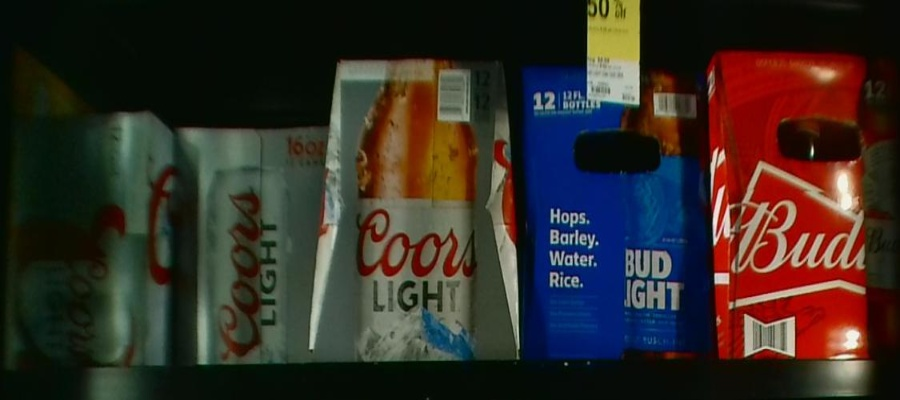bottle: (713, 51, 900, 363), (331, 58, 519, 361), (522, 69, 712, 361), (5, 112, 172, 367), (179, 125, 325, 358)
